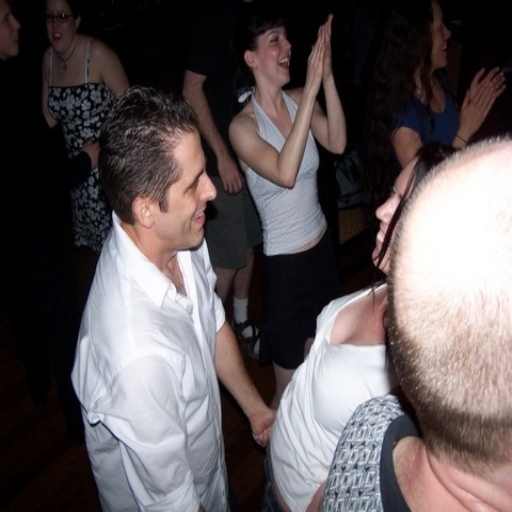hand: (460, 79, 494, 130), (315, 12, 332, 79), (251, 405, 277, 448), (306, 27, 323, 85), (217, 155, 242, 194), (80, 132, 99, 170)
